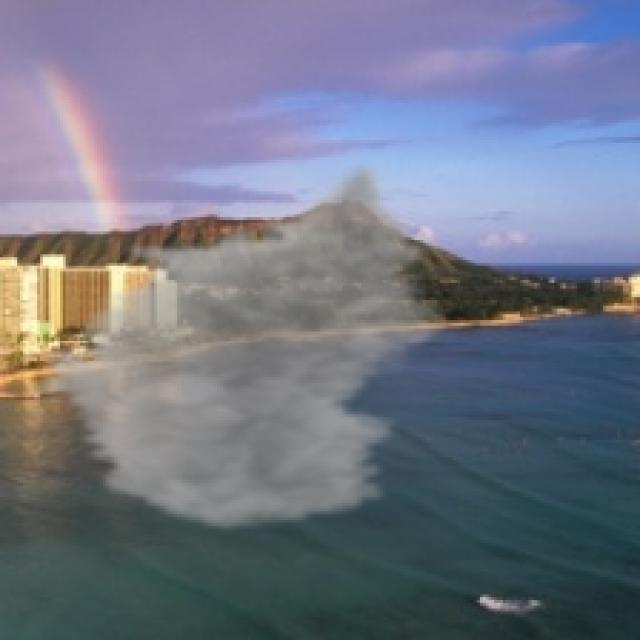smoke: (29, 160, 454, 534)
